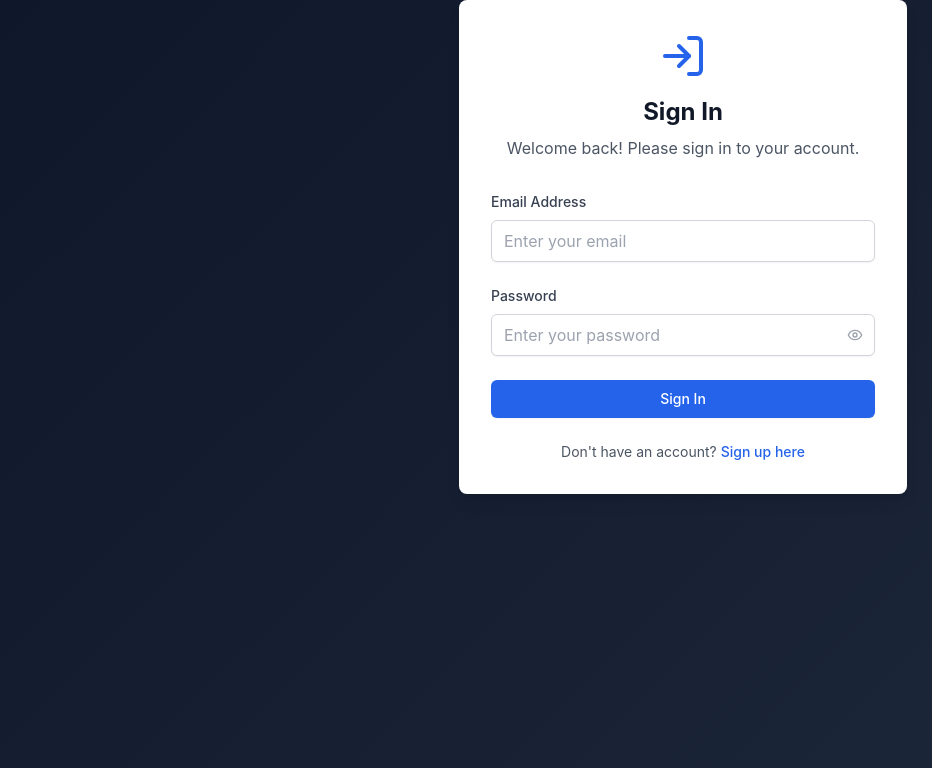
LoginForm › should handle login error
Type "test@example.com" into the field labelled "Email Address" at (683, 241), box x1=491 y1=220 x2=875 y2=262
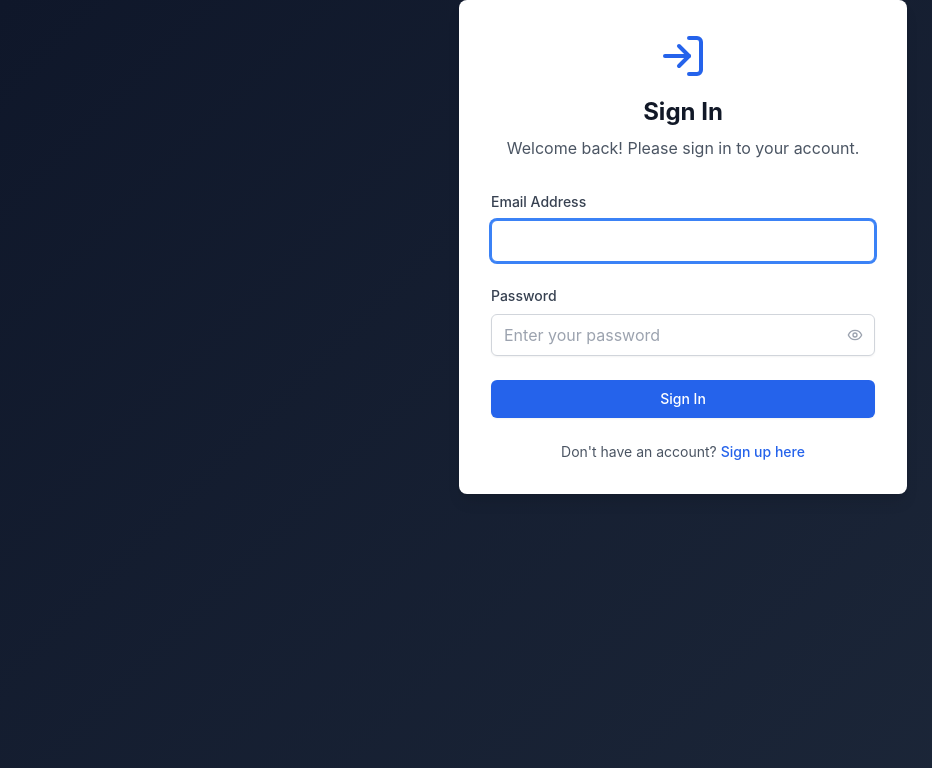
Type "wrongpassword" into the password field labelled "Password" at (683, 335), box x1=491 y1=314 x2=875 y2=356
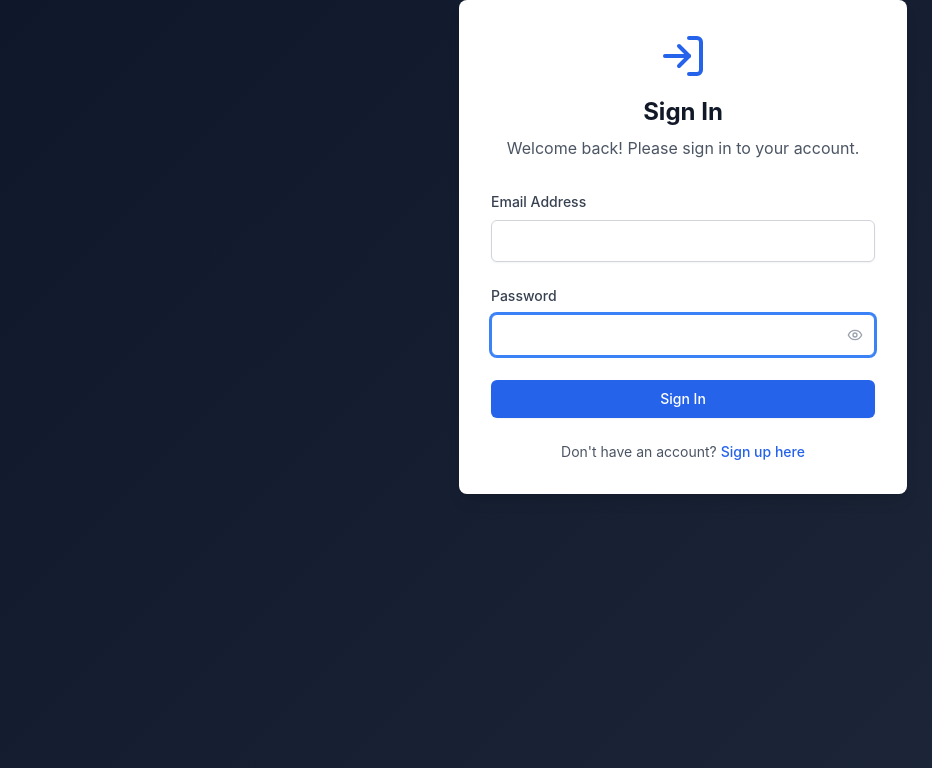
Click the button "Sign In" at (683, 399), box x1=491 y1=380 x2=875 y2=418
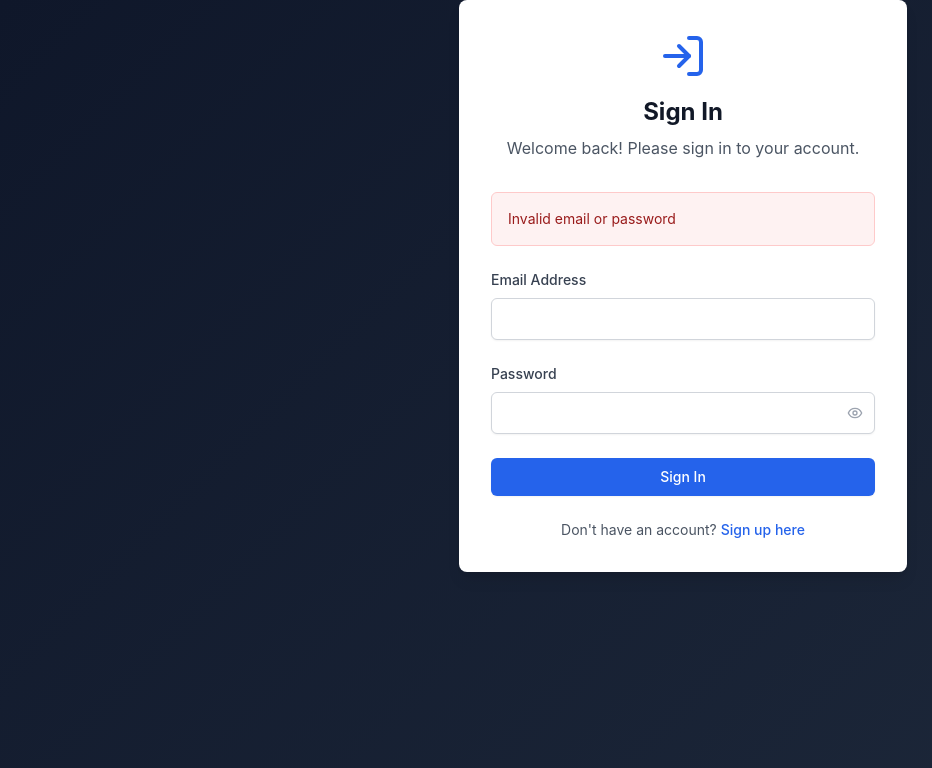
Expected: the text "Invalid email or password" is shown, x1=508 y1=210 x2=676 y2=227
